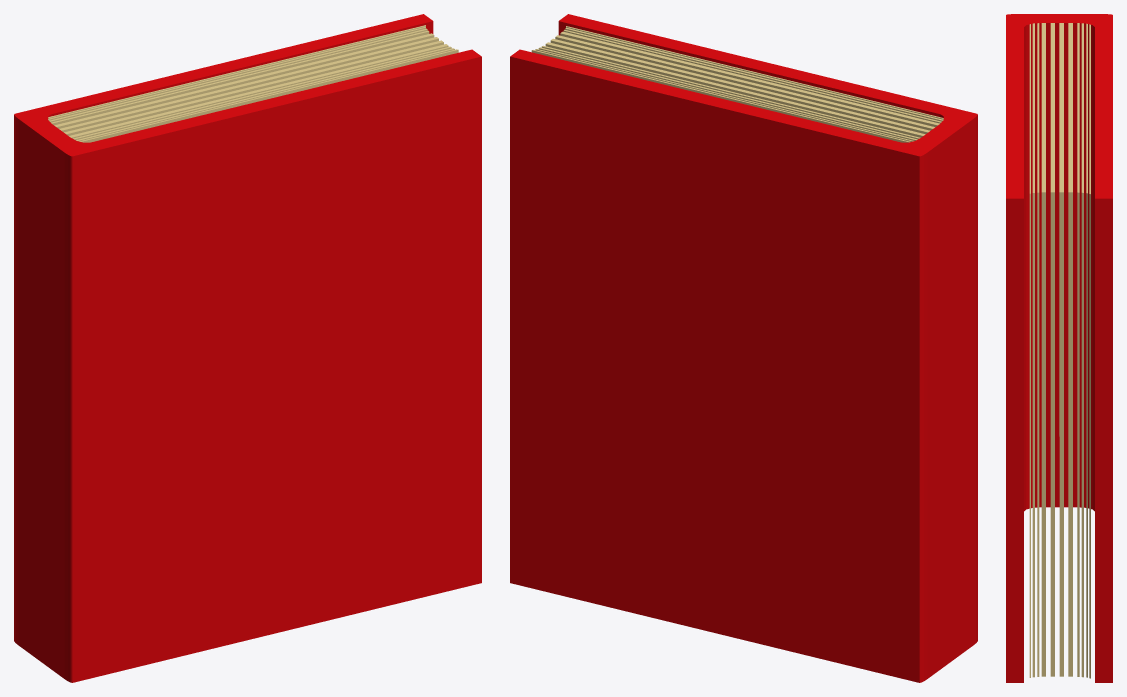
The model's file is Red Book.fbx.
The picture shows the model from 3 angles, left to right: view 1: azimuth 30°, elevation 25°; view 2: azimuth 150°, elevation 25°; view 3: azimuth 270°, elevation 25°; orthographic projection. The views are drawn at different scales.
Visible parts, largest first — view 1: Cube; view 2: Cube; view 3: Cube.
Boxes of the visible parts, <box> form: Cube: <box>14,14,481,682</box>; Cube: <box>510,14,977,682</box>; Cube: <box>1006,14,1112,682</box>.
Size of the model in its own units: 818 by 1000 by 200.
